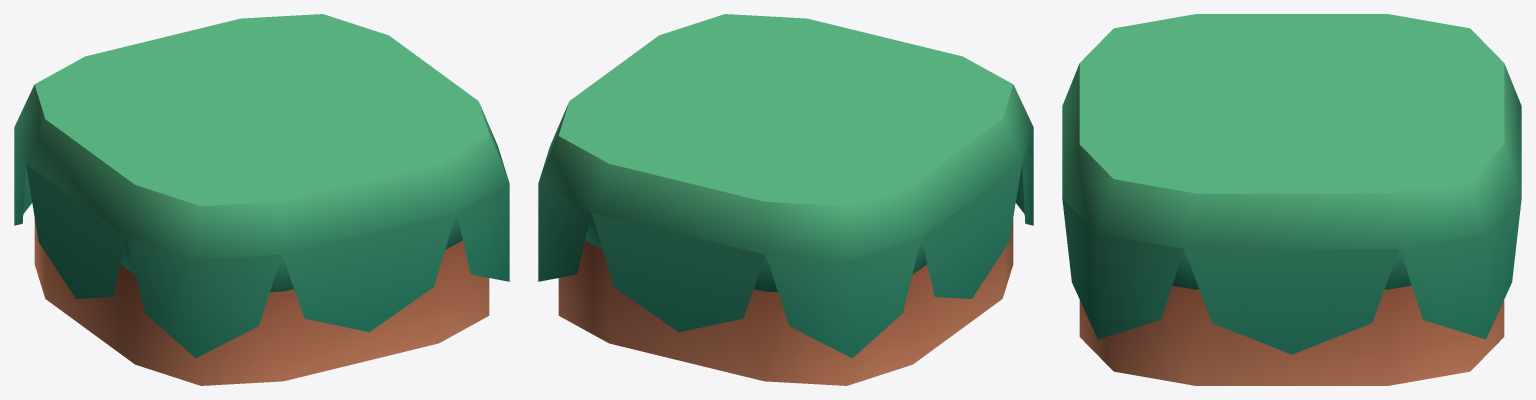
File: block-grass-overhang-low.glb
3 views of the same model, side by side, from view 1: azimuth 30°, elevation 25°; view 2: azimuth 150°, elevation 25°; view 3: azimuth 270°, elevation 25° (orthographic). The views are drawn at different scales.
Visible parts, largest first — view 1: block-grass-overhang-low; view 2: block-grass-overhang-low; view 3: block-grass-overhang-low.
Boxes of the visible parts, <box> form: block-grass-overhang-low: <box>14,14,509,385</box>; block-grass-overhang-low: <box>538,14,1033,385</box>; block-grass-overhang-low: <box>1062,14,1521,385</box>.
Bounding box in the file's own units: 1.08 × 0.5 × 1.08.
1 material, 1 textured.
